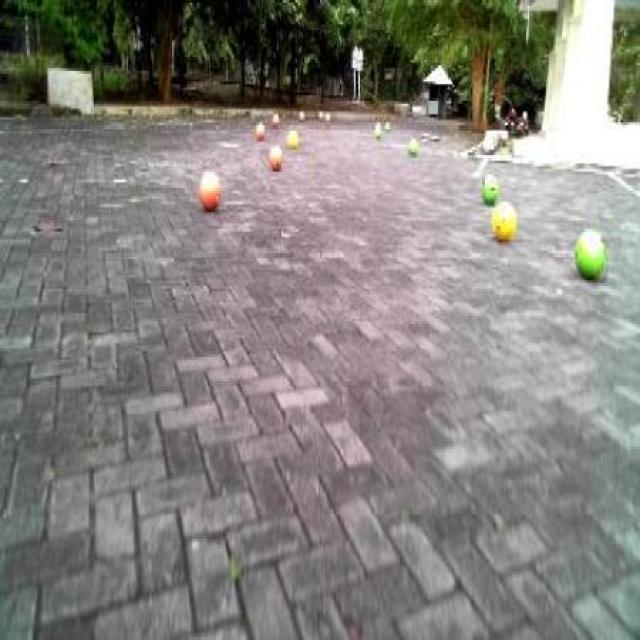buoy: (572, 216, 610, 287), (488, 191, 522, 247), (196, 163, 226, 215), (479, 170, 502, 208), (264, 140, 286, 176), (282, 125, 302, 152), (404, 134, 421, 160), (250, 118, 266, 144)
